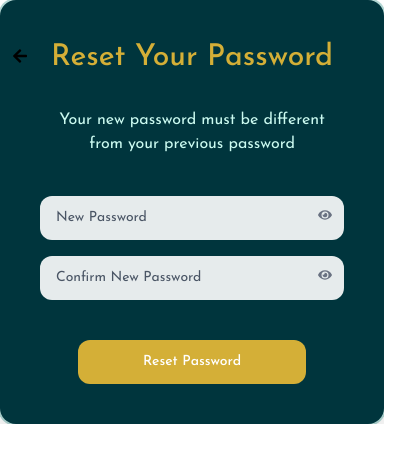
Test: ResetFormClient › shows error on password < 8 chars
In the password field with placeholder "New Password": (192, 218) [40,196,344,240], type "123"
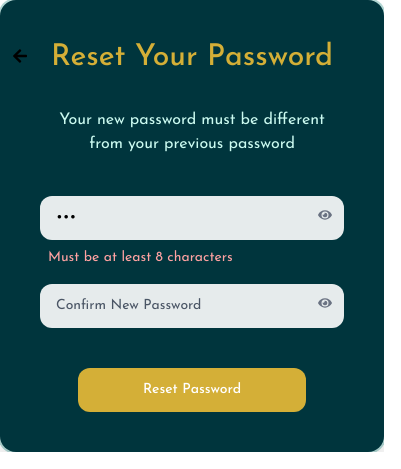
Expected: the text "Must be at least 8 characters" is shown, [48,250,233,265]
